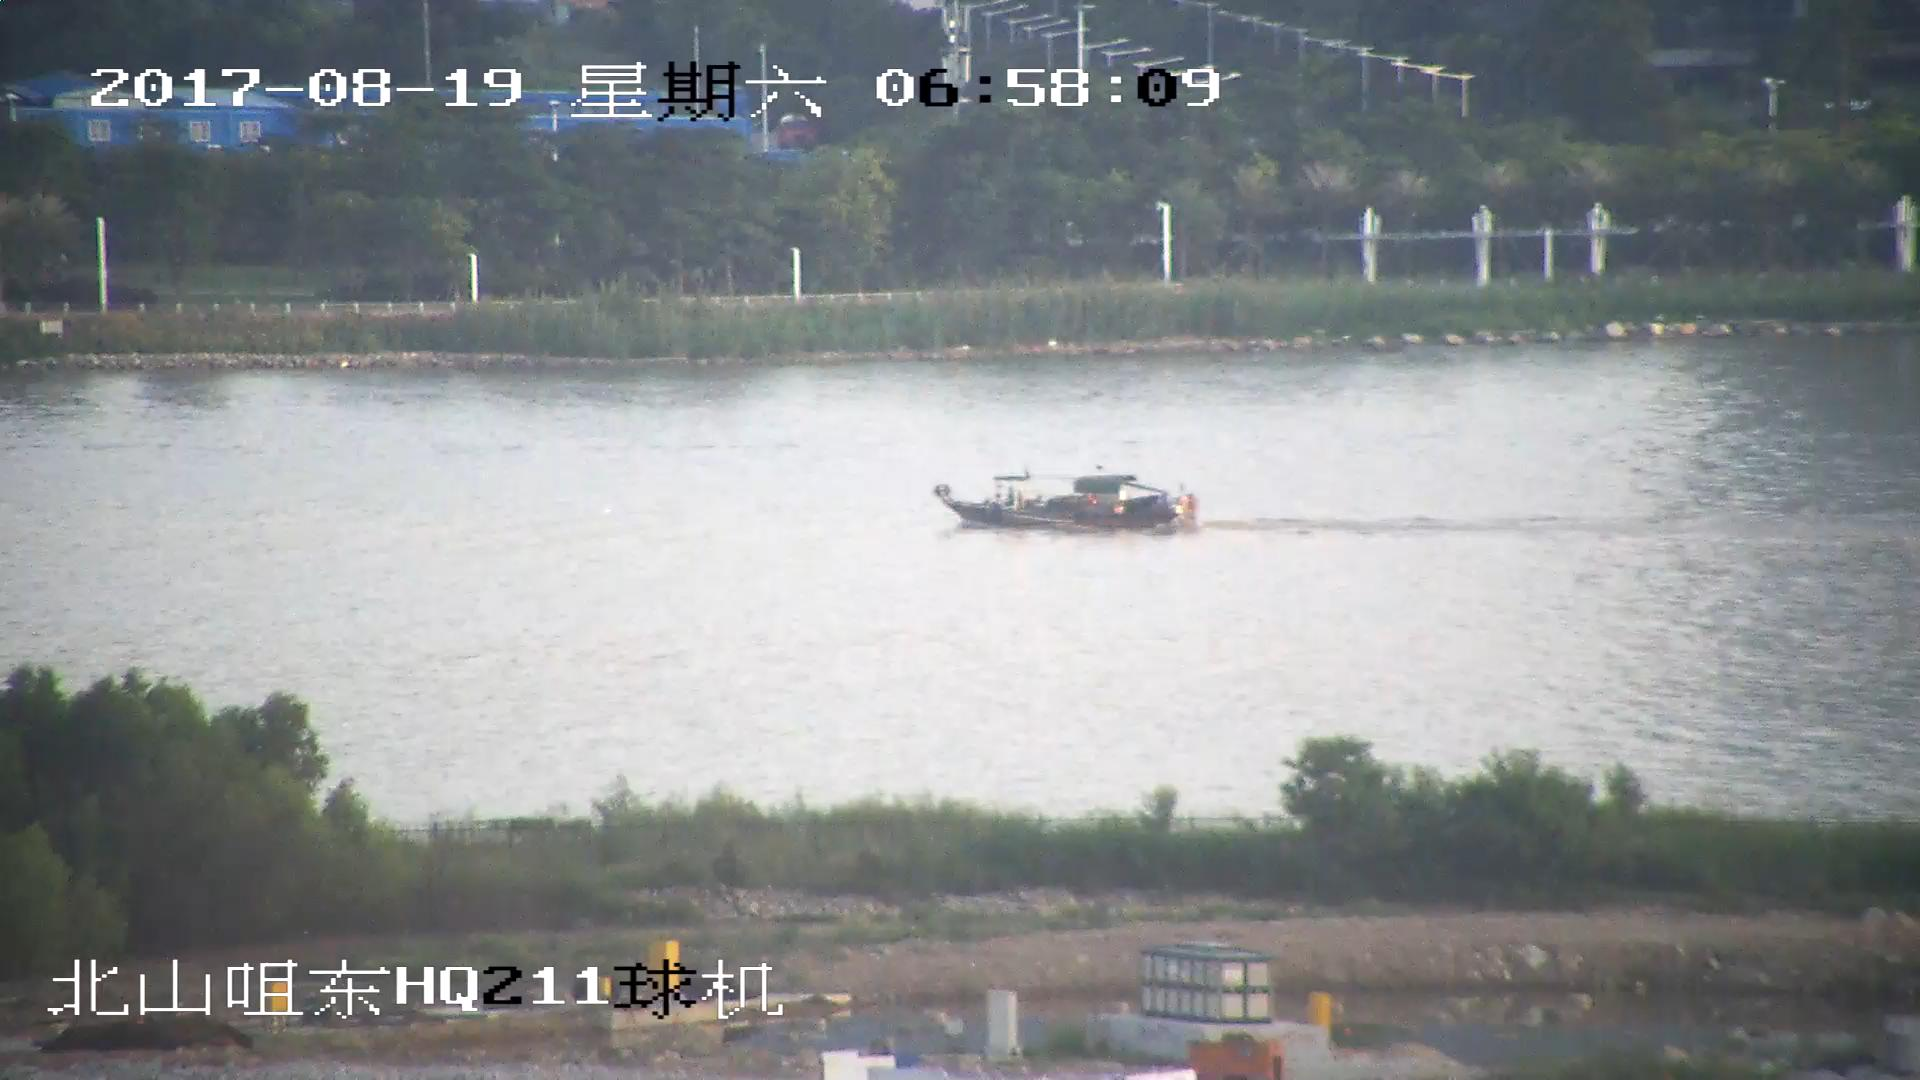fishing boat: (935, 467, 1198, 533)
